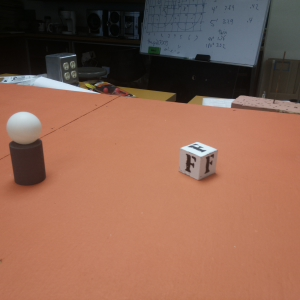blockF: (179, 141, 217, 181)
obstacle: (6, 111, 48, 190)
